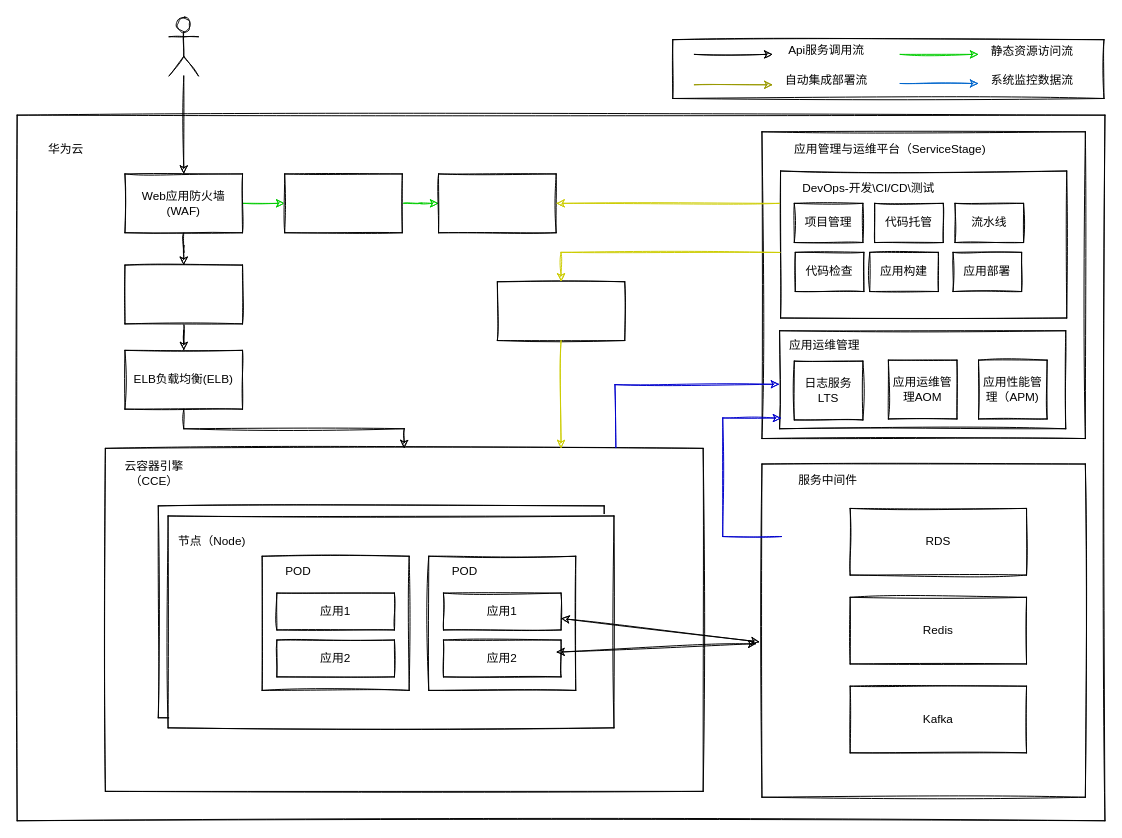
Image size: 1122x838. Some labels were removed from this diagram. Here are the shapes that lost their labels. From the top down, the centre of each, then its label:
At (x=183, y=46): "公网访问".
At (x=343, y=203): "内容分发网络 （CDN)".
At (x=497, y=203): "对象存储服务 (OBS)".
At (x=183, y=294): "API网关(APIG)".
At (x=560, y=311): "容器镜像服务(SWR)".
